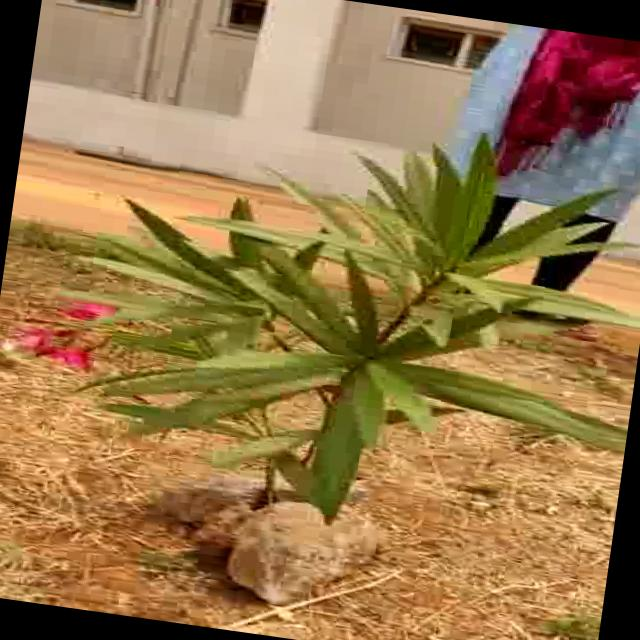OLEANDER: (41, 96, 630, 525)
